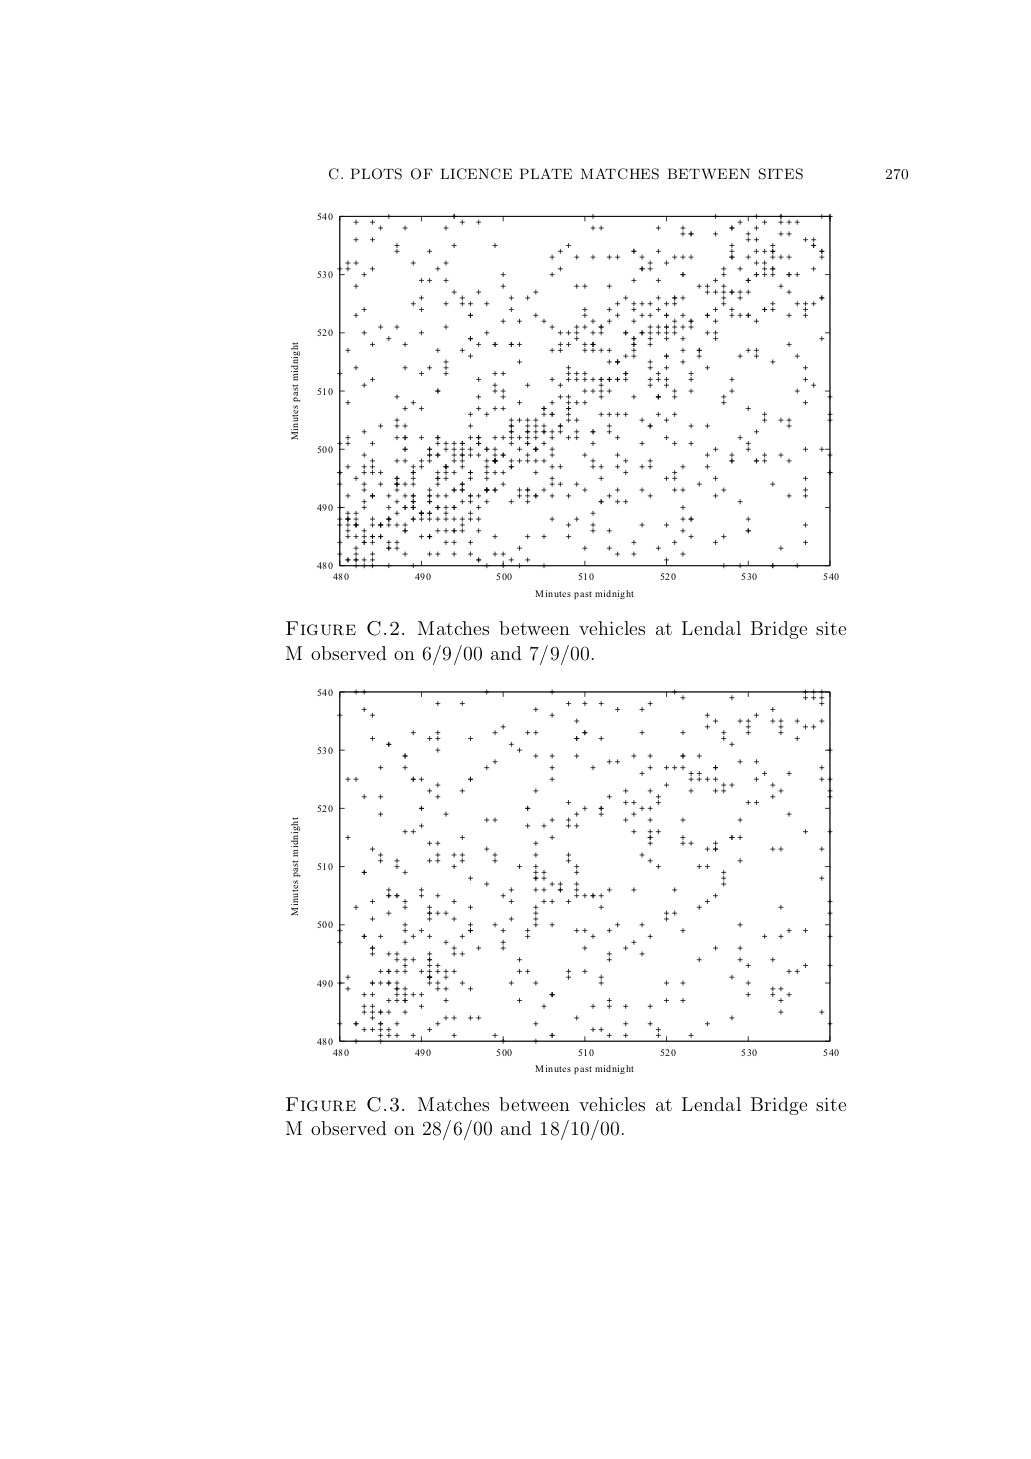figure: (291, 213, 838, 599), (291, 689, 838, 1074)
